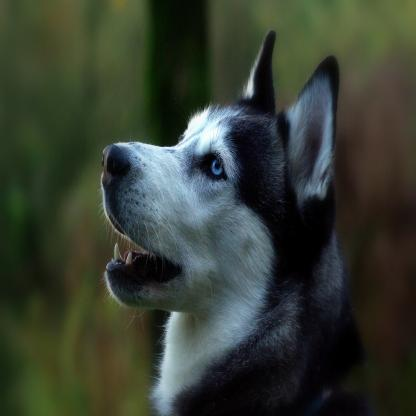husky: (102, 25, 365, 415)
